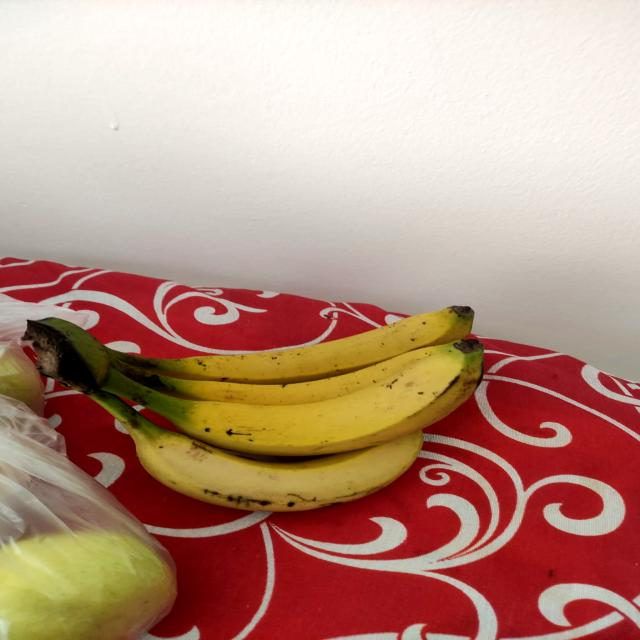banana: (28, 300, 514, 507), (68, 336, 514, 456)
